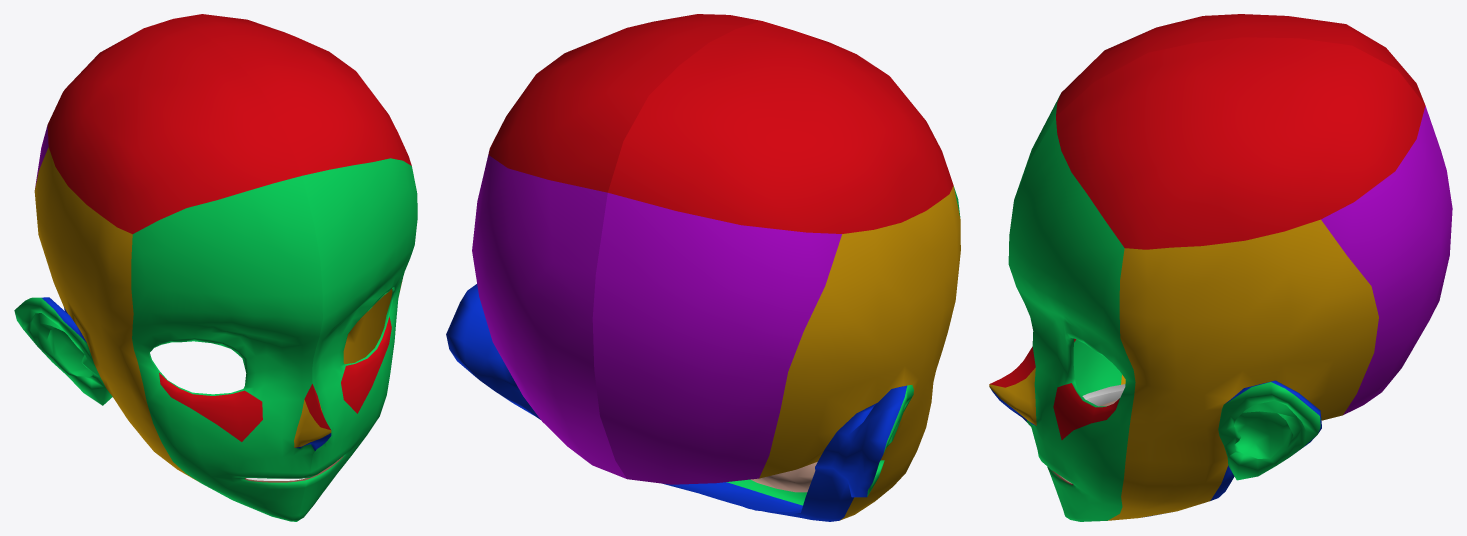
File: kohakuhead_normal.fbx
3 views of the same model, side by side, from view 1: azimuth 30°, elevation 25°; view 2: azimuth 150°, elevation 25°; view 3: azimuth 270°, elevation 25° (orthographic). The views are drawn at different scales.
Visible parts, largest first — view 1: head; view 2: head; view 3: head.
Part boxes in pixels (<box>): head: <box>14,14,417,521</box>; head: <box>446,14,960,521</box>; head: <box>989,14,1452,521</box>.
Size of the model in its own units: 17.01 by 19.75 by 17.24.
